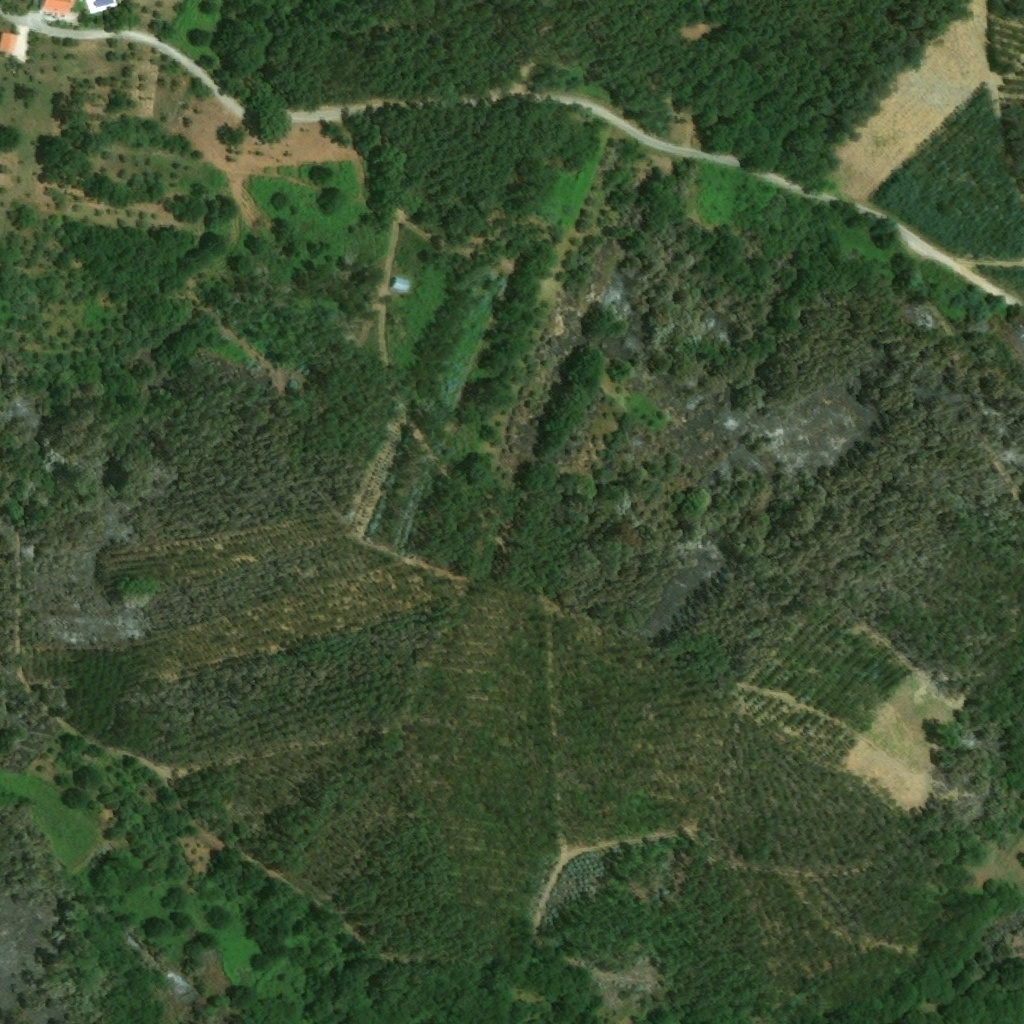0 no-damage: (39, 0, 78, 14), (0, 31, 18, 56), (390, 276, 413, 294)
